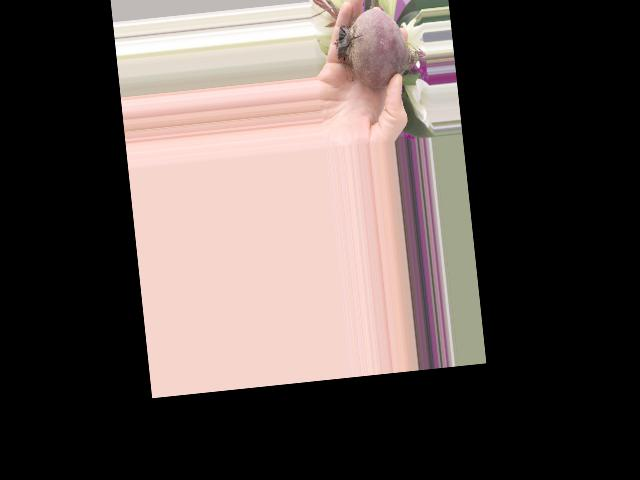beet: (329, 3, 428, 92)
